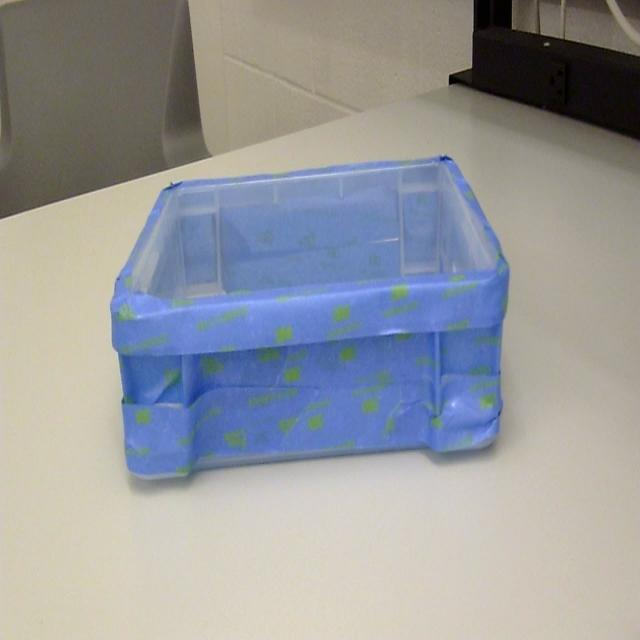bucket: (109, 156, 510, 484)
